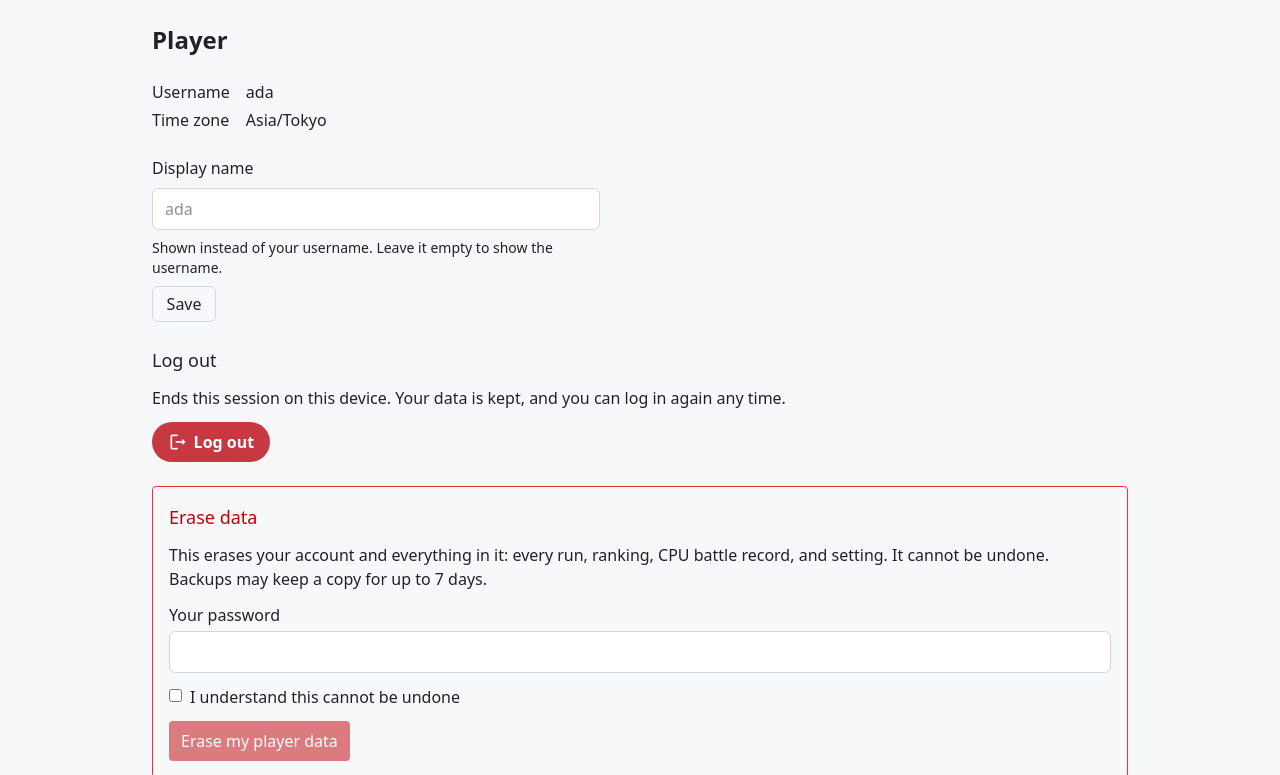
Test: the account screen › says when to try again after too many wrong passwords
Type "x" into the password field labelled "Your password" at (640, 652), box [169, 631, 1111, 673]
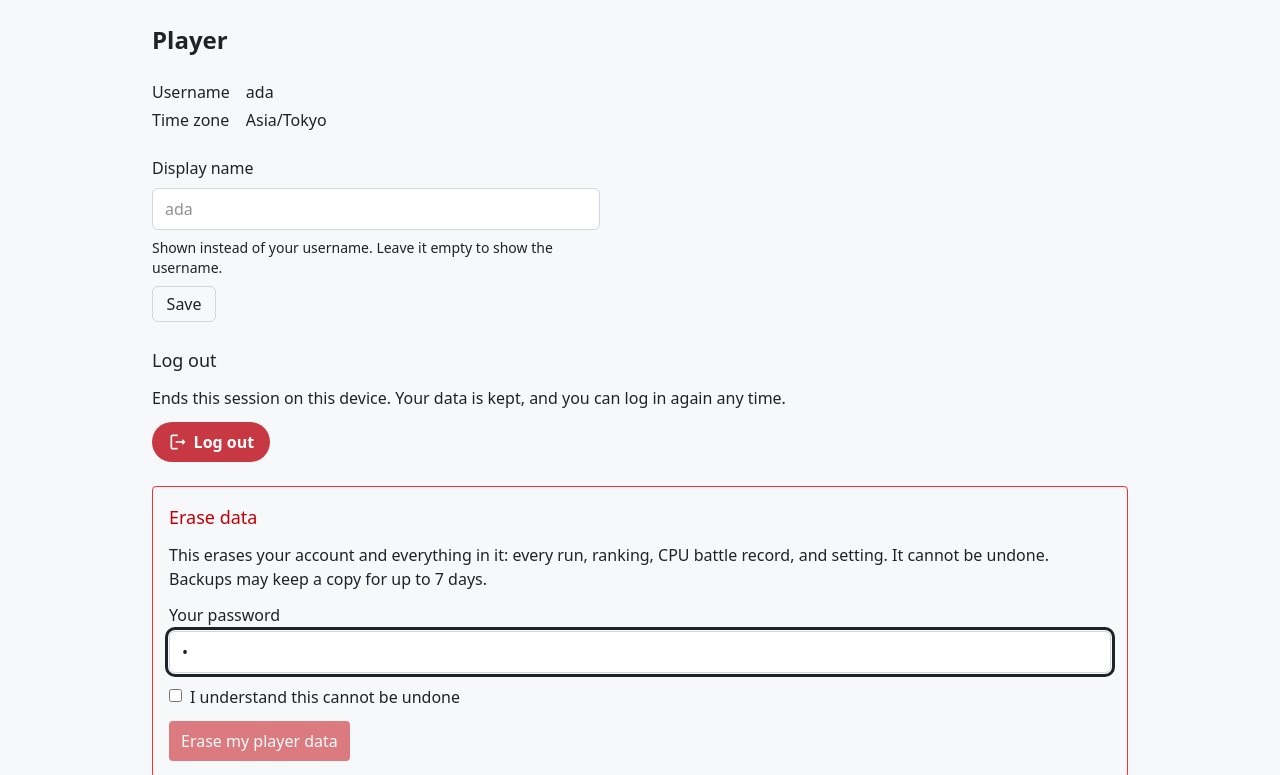
Click the checkbox labelled "I understand this cannot be undone" at (176, 695), box [169, 689, 182, 702]
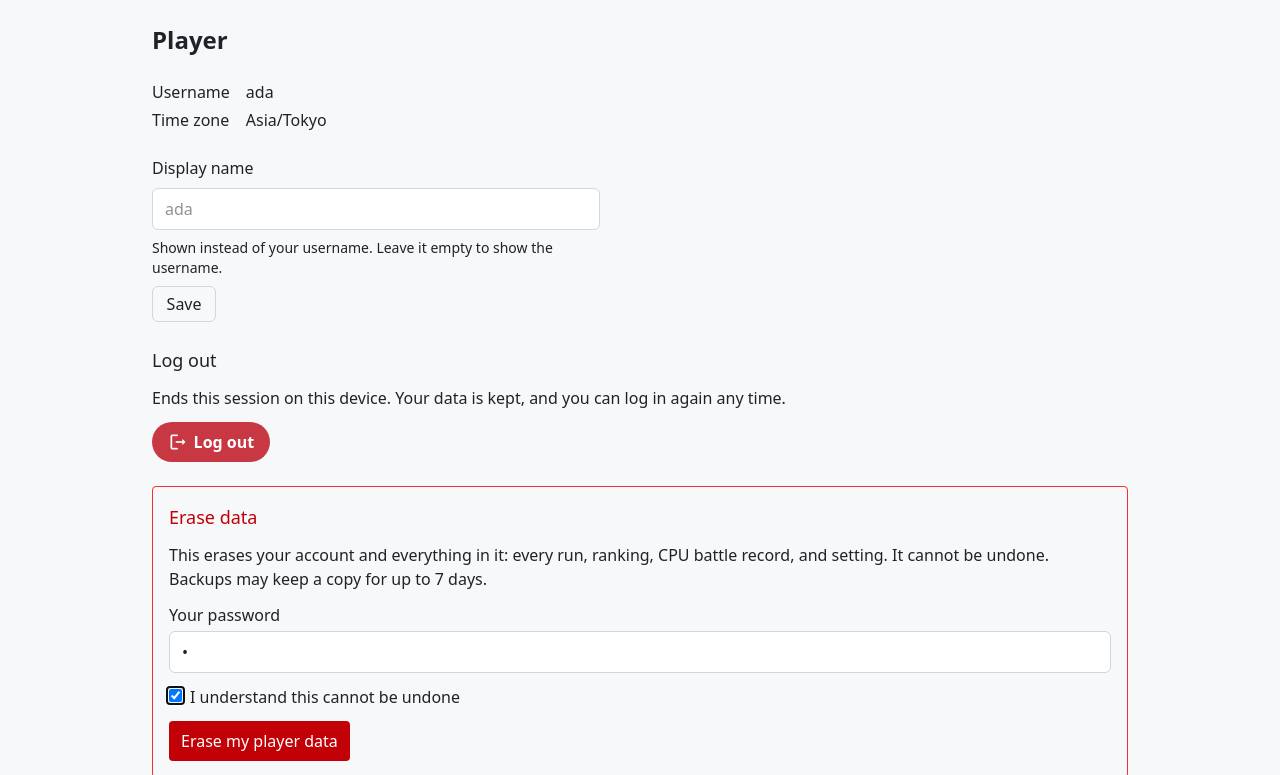
Click the button "Erase my player data" at (259, 741), box [169, 721, 350, 761]
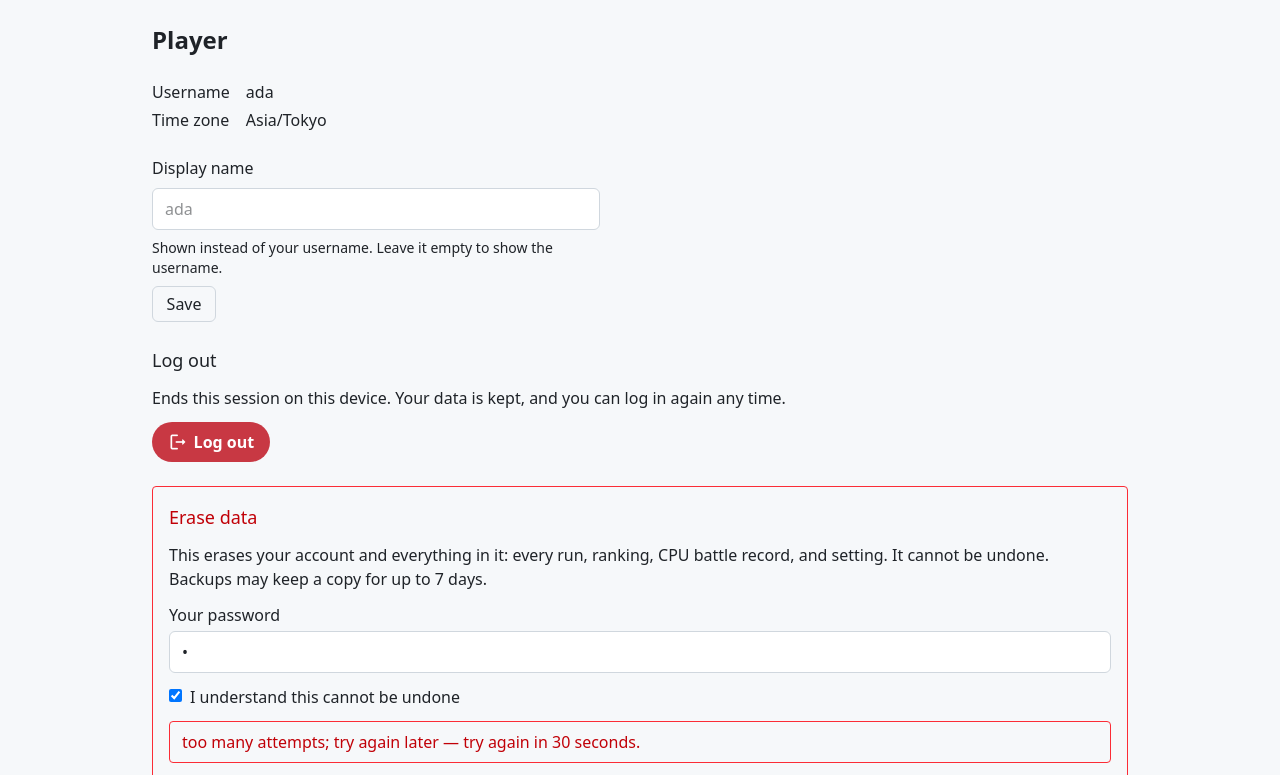
Result: the message reads "too many attempts; try again later — try again in 30 seconds." at [182, 731, 640, 753]
